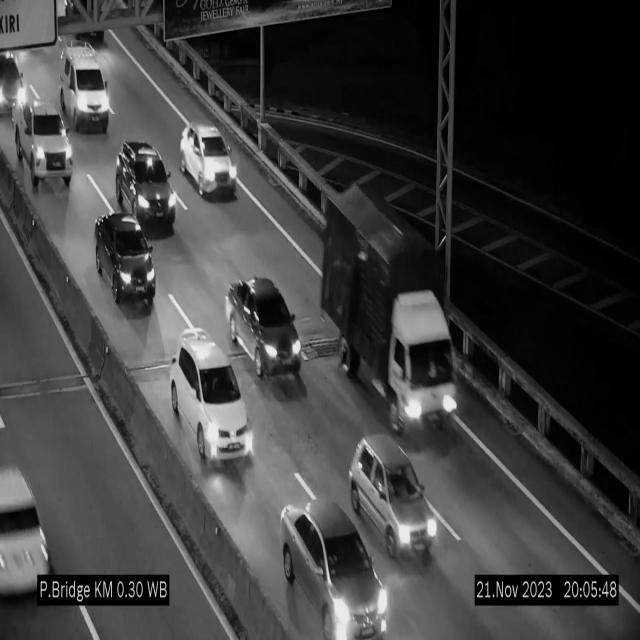Car: (278, 496, 390, 640), (348, 435, 438, 561), (171, 331, 253, 469), (0, 453, 61, 610), (225, 277, 303, 388), (12, 98, 75, 190), (95, 213, 155, 304), (116, 140, 176, 230), (61, 44, 110, 132), (180, 124, 238, 198), (0, 42, 42, 128)
Truck: (320, 184, 458, 433)
